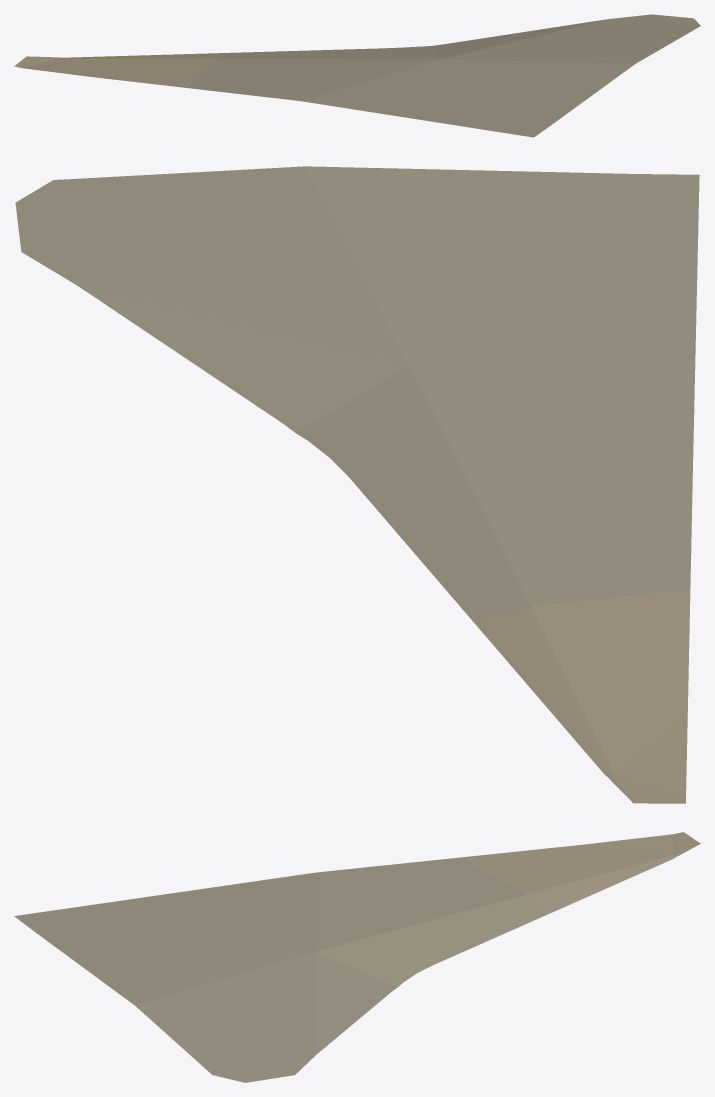
The model's file is farm_7_-5_soil.glb.
3 renders of one model, top to bottom at view 1: azimuth 30°, elevation 25°; view 2: azimuth 150°, elevation 25°; view 3: azimuth 270°, elevation 25°, orthographic. The views are drawn at different scales.
Visible parts, largest first — view 1: geometry_0; view 2: geometry_0; view 3: geometry_0.
Part boxes in pixels (box(x1,y1,x2,y2)): geometry_0: box(14, 14, 700, 137); geometry_0: box(15, 166, 699, 803); geometry_0: box(14, 832, 700, 1082).
Size of the model in its own units: 167 by 19.35 by 154.
